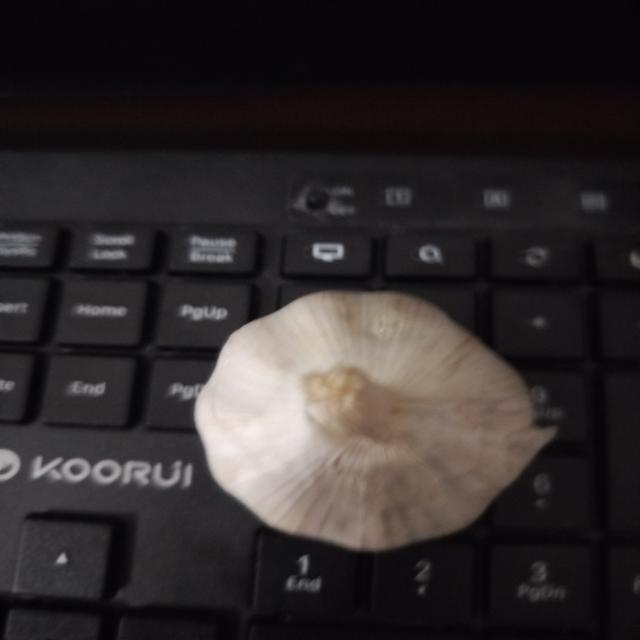garlic: (193, 289, 559, 552)
